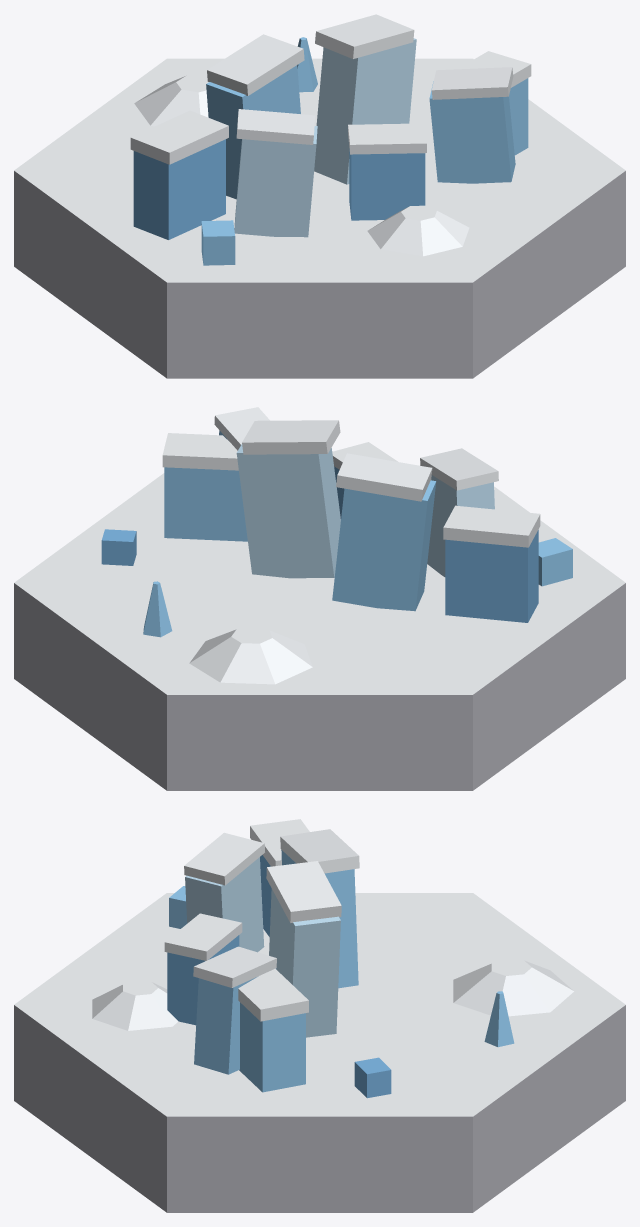
Rendered from ice-wall-small.glb.
3 views of the same model, one above another, from view 1: azimuth 30°, elevation 25°; view 2: azimuth 150°, elevation 25°; view 3: azimuth 270°, elevation 25° (orthographic).
Visible parts, largest first — view 1: base, front_2, back_0, front_0, back_2, back_1, front_1, mound_2, front_cap_1, front_cap_0, front_cap_2, mound_1 (+7 smaller); view 2: base, front_2, front_1, front_0, front_3, mound_1, front_cap_1, front_cap_0, front_cap_2, front_cap_3, back_0, back_cap_0 (+5 smaller); view 3: base, front_2, mound_1, front_3, back_0, back_2, front_cap_2, mound_2, back_cap_0, front_cap_3, front_1, back_cap_1 (+8 smaller).
Part boxes in pixels (left/top/right/bottom): base: left=14, top=58, right=625, bottom=378; front_2: left=314, top=38, right=416, bottom=184; back_0: left=234, top=126, right=317, bottom=237; front_0: left=133, top=139, right=225, bottom=239; back_2: left=429, top=81, right=515, bottom=183; back_1: left=349, top=148, right=425, bottom=220; front_1: left=206, top=65, right=300, bottom=199; mound_2: left=367, top=205, right=469, bottom=256; front_cap_1: left=207, top=34, right=304, bottom=95; front_cap_0: left=130, top=110, right=228, bottom=164; front_cap_2: left=315, top=14, right=414, bottom=58; mound_1: left=134, top=75, right=208, bottom=126; base: left=14, top=473, right=625, bottom=790; front_2: left=236, top=444, right=340, bottom=578; front_1: left=332, top=480, right=436, bottom=611; front_0: left=445, top=530, right=538, bottom=622; front_3: left=164, top=467, right=247, bottom=541; mound_1: left=189, top=626, right=312, bottom=684; front_cap_1: left=336, top=453, right=432, bottom=501; front_cap_0: left=443, top=505, right=540, bottom=547; front_cap_2: left=242, top=420, right=340, bottom=454; front_cap_3: left=162, top=433, right=238, bottom=470; back_0: left=427, top=475, right=494, bottom=576; back_cap_0: left=420, top=448, right=498, bottom=490; base: left=14, top=893, right=625, bottom=1212; front_2: left=269, top=889, right=340, bottom=1037; mound_1: left=453, top=958, right=573, bottom=1016; front_3: left=239, top=1002, right=305, bottom=1092; back_0: left=185, top=857, right=264, bottom=952; back_2: left=194, top=968, right=276, bottom=1074; front_cap_2: left=266, top=861, right=341, bottom=922; mound_2: left=92, top=980, right=178, bottom=1030; back_cap_0: left=184, top=832, right=264, bottom=885; front_cap_3: left=238, top=968, right=308, bottom=1021; front_1: left=281, top=850, right=358, bottom=988; back_cap_1: left=164, top=913, right=242, bottom=960.
Bounding box in the file's own units: 1 × 0.4943 × 1.15.
